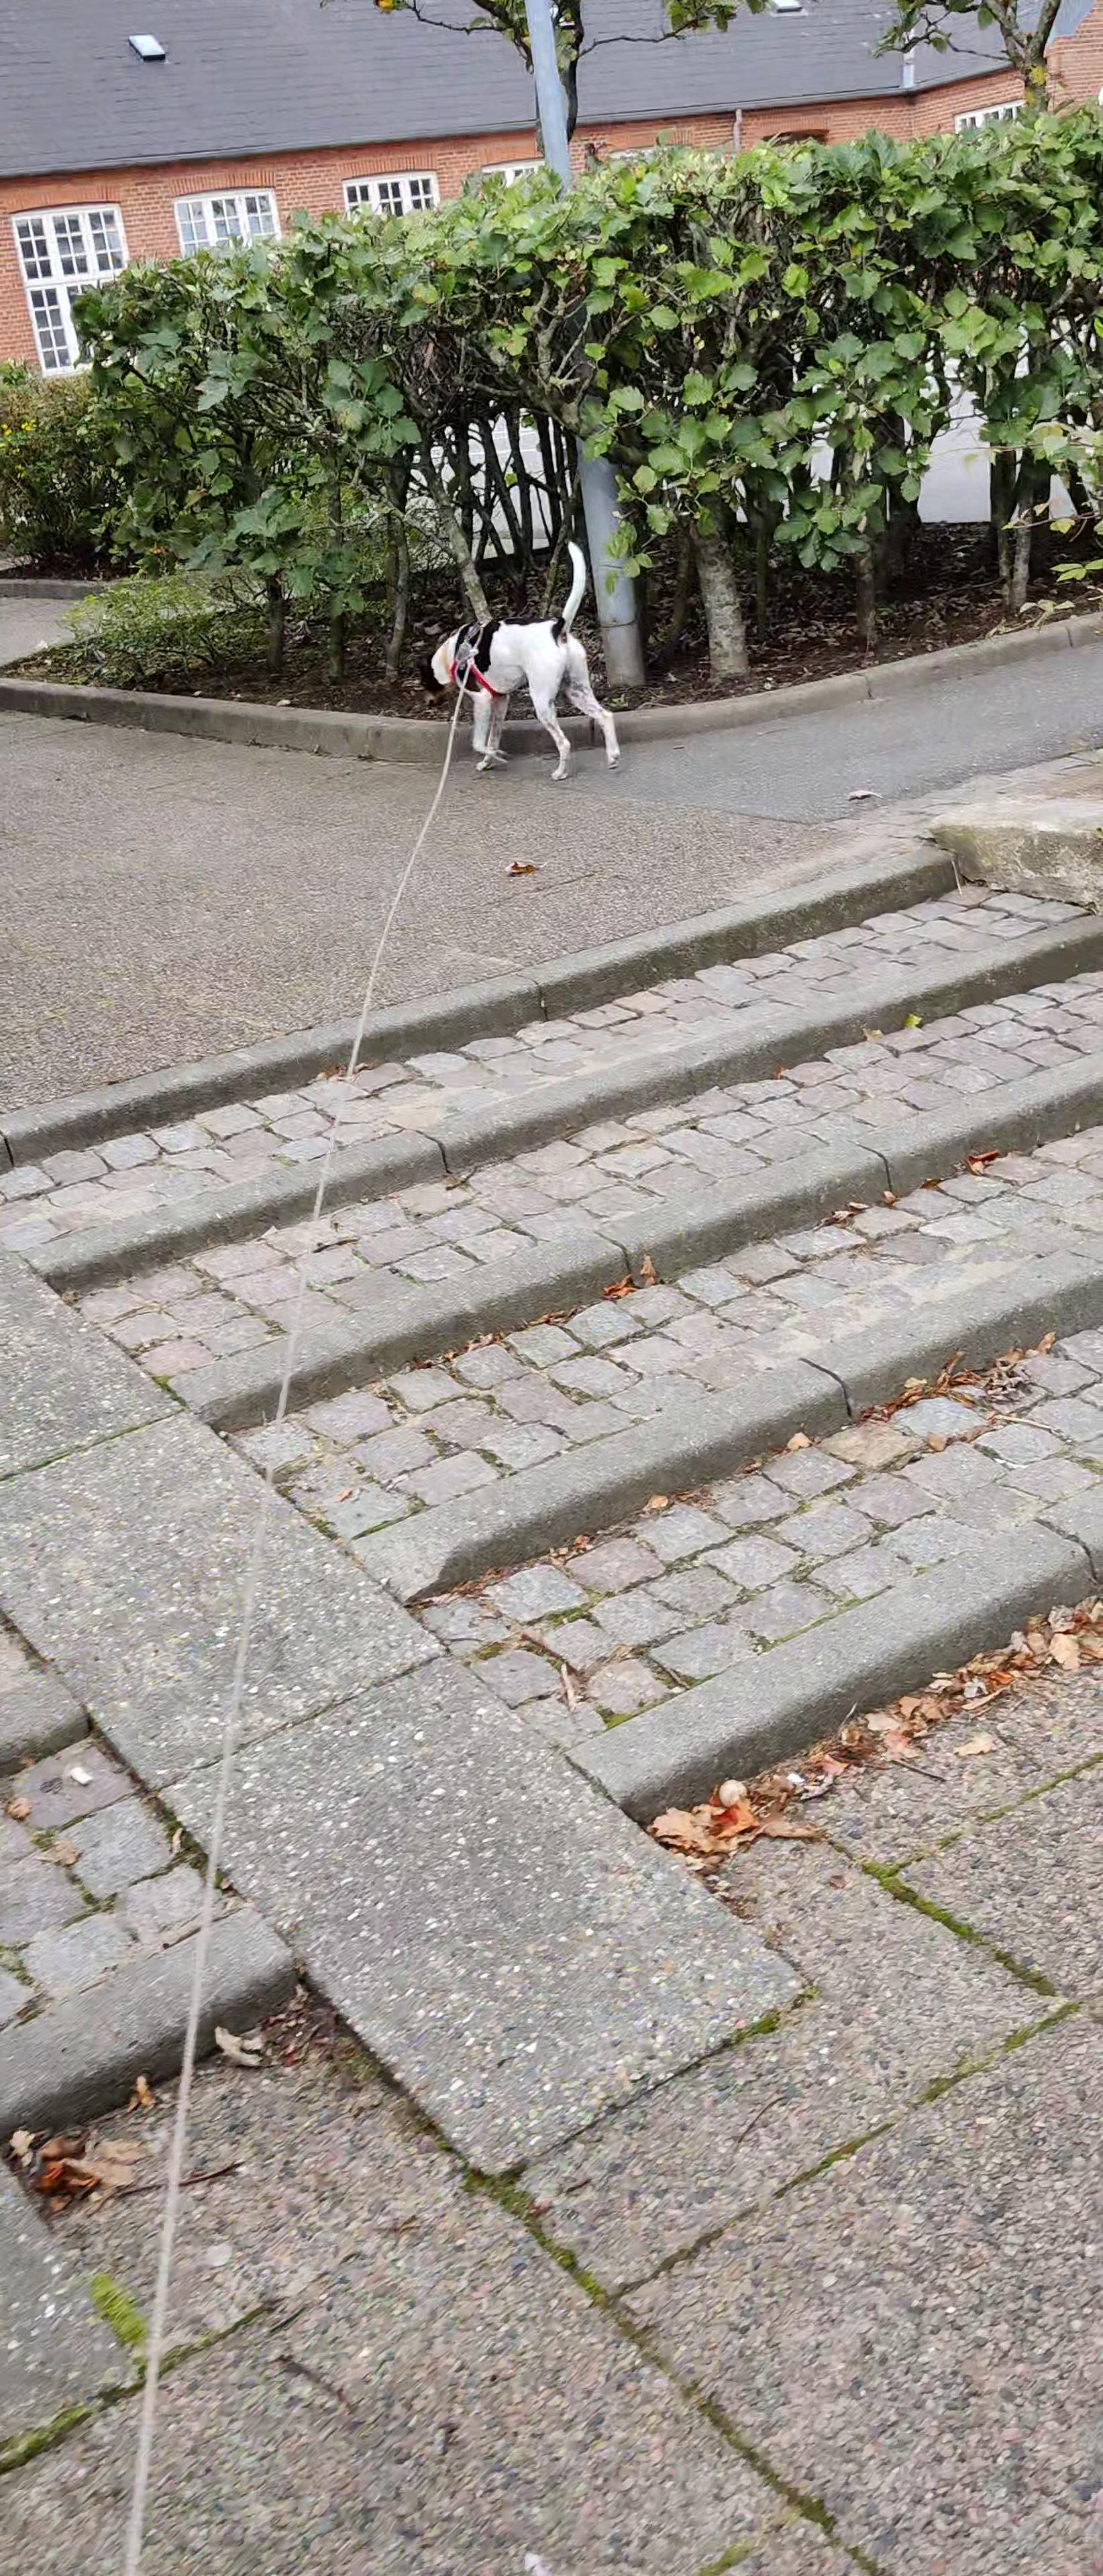Dog: (411, 540, 628, 785)
